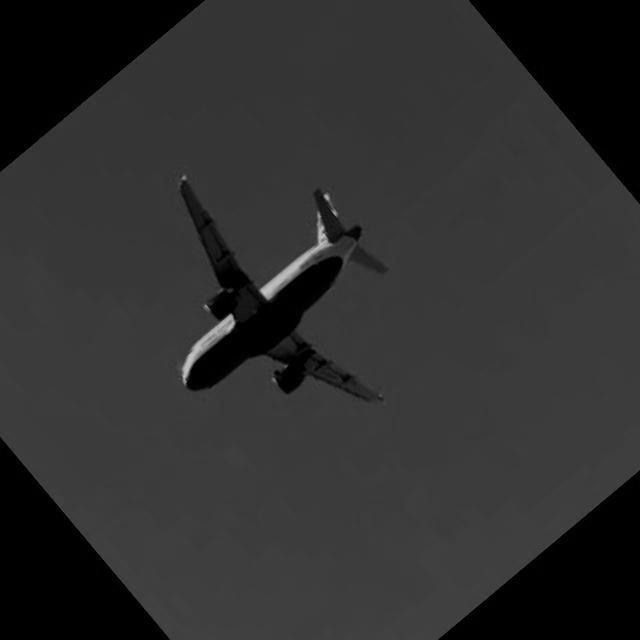aeroplane: (80, 107, 454, 487)
